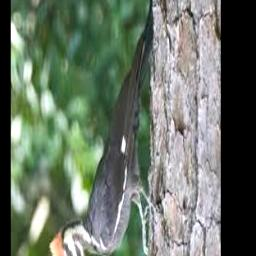Woodpecker: (48, 0, 155, 256)
